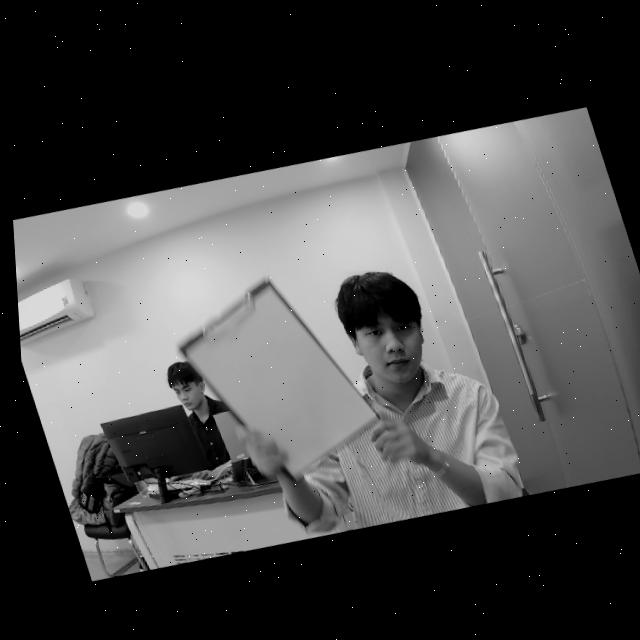face: (162, 354, 225, 433)
